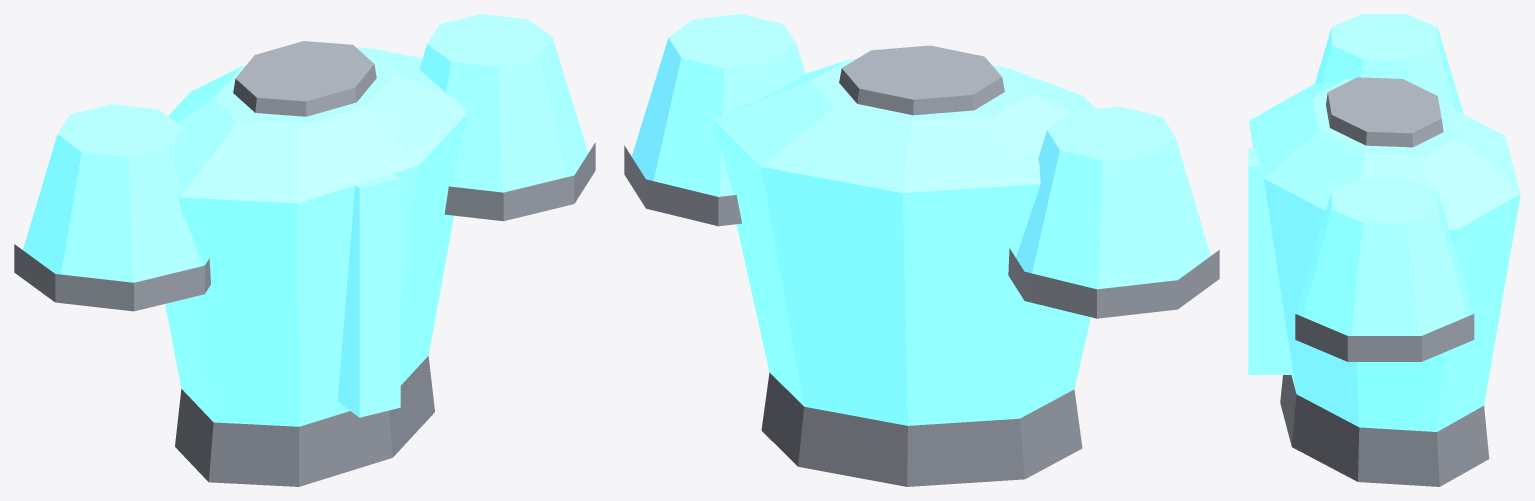
The model's file is mithril_plate.glb.
3 renders of one model, left to right at view 1: azimuth 30°, elevation 25°; view 2: azimuth 150°, elevation 25°; view 3: azimuth 270°, elevation 25°, orthographic. The views are drawn at different scales.
Parts seen in each view (by area): view 1: mithril_plate; view 2: mithril_plate; view 3: mithril_plate.
Boxes of the visible parts, left/top/right/bottom form: mithril_plate: left=14, top=14, right=595, bottom=486; mithril_plate: left=624, top=14, right=1219, bottom=486; mithril_plate: left=1248, top=14, right=1520, bottom=486.
Size of the model in its own units: 0.9868 by 0.625 by 0.4741.
